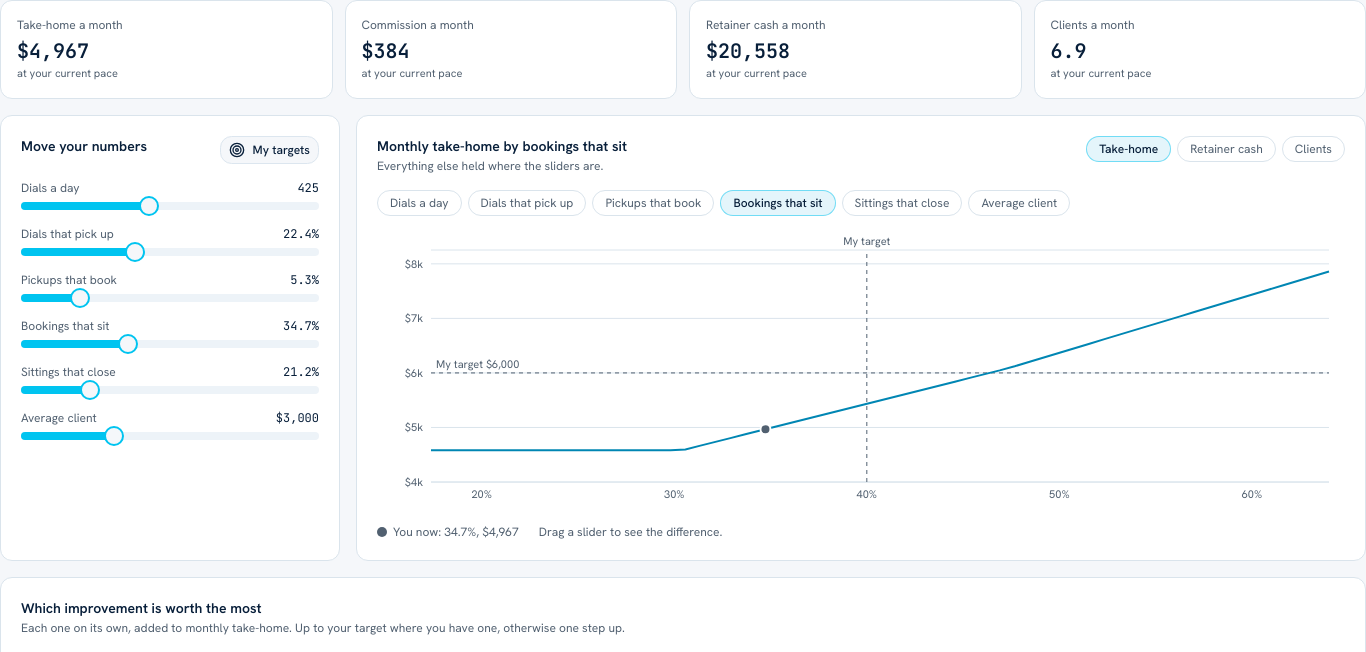
Test: goals screens › applies the rep's targets to the what-if and resets
Later steps or results of the test are not shown.
Expected: the text "at your current pace" is shown 4 times, x1=17 y1=66 x2=118 y2=80; x1=362 y1=66 x2=462 y2=80; x1=706 y1=66 x2=807 y2=80; x1=1050 y1=66 x2=1151 y2=80
Click the button "My targets". click: (269, 150)
box: x1=220 y1=136 x2=319 y2=164
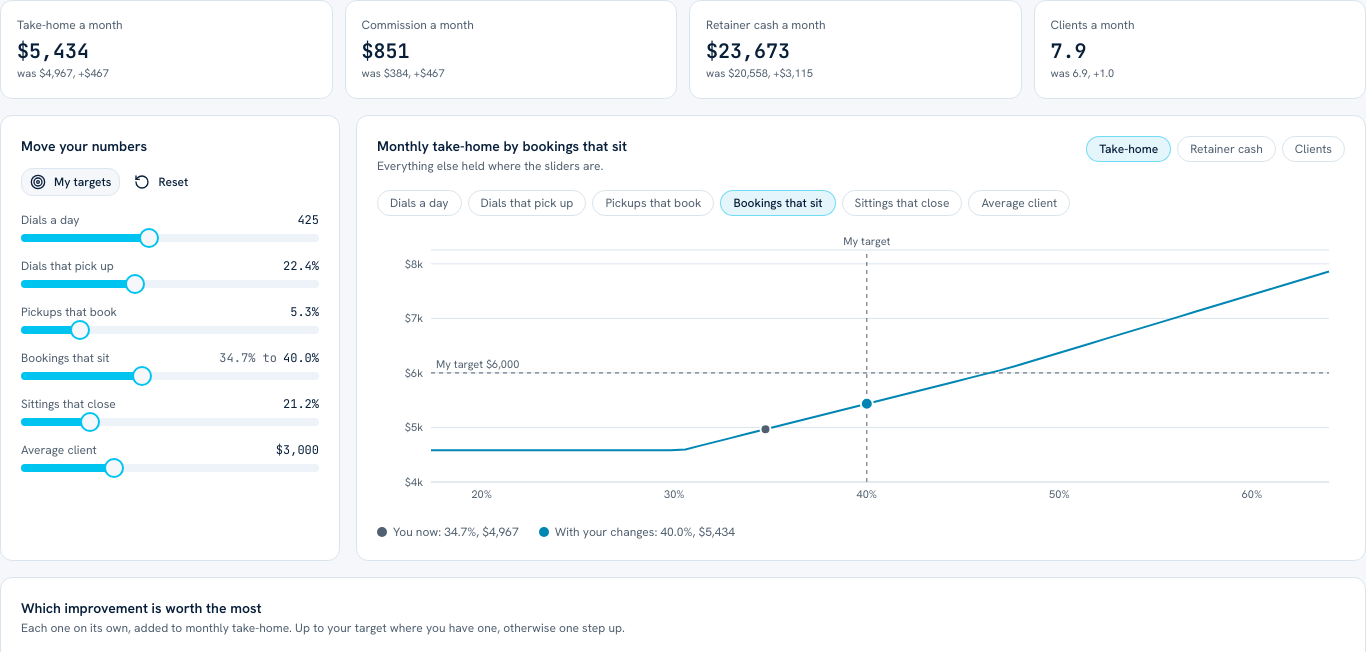
Result: the text "at your current pace" is gone
Result: the text "was $4,967, +$467" is shown at x1=17 y1=66 x2=109 y2=80
